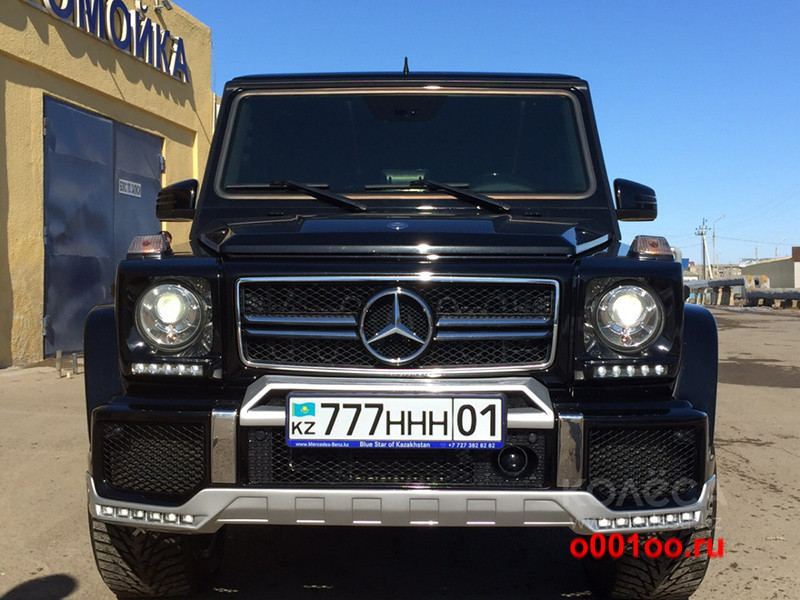license_plate: (285, 394, 505, 448)
